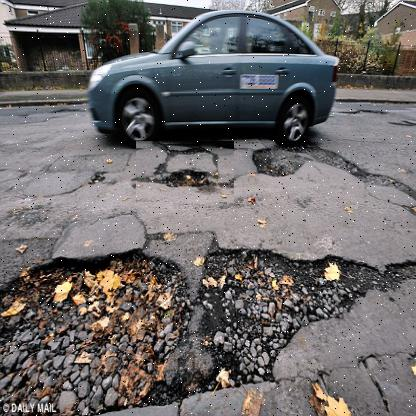damage: (136, 141, 235, 203), (248, 133, 334, 189)
pothole: (194, 235, 395, 392)
